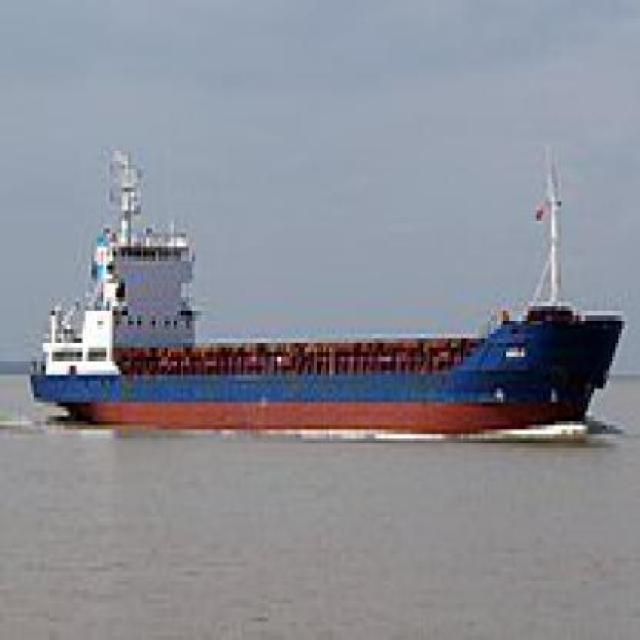container: (4, 152, 623, 449)
